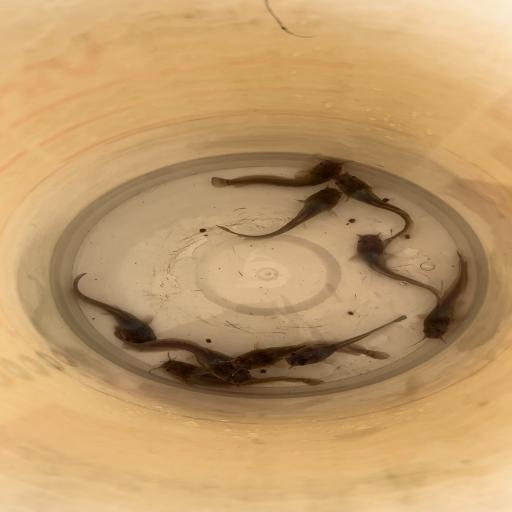lele: (112, 330, 256, 386), (215, 186, 344, 244), (348, 232, 445, 306), (282, 314, 408, 367), (406, 250, 470, 348), (332, 172, 416, 246), (72, 272, 158, 344), (152, 357, 327, 388), (228, 339, 390, 372), (210, 156, 344, 188)
